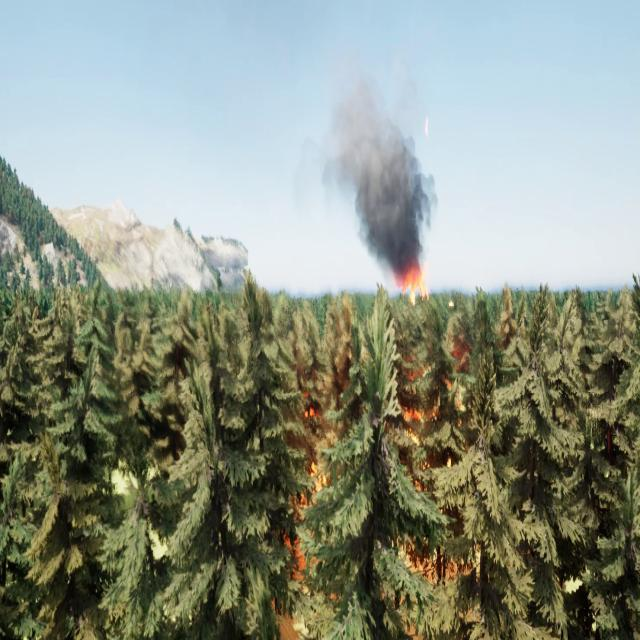fire: (398, 276, 432, 305)
smoke: (316, 68, 438, 274)
